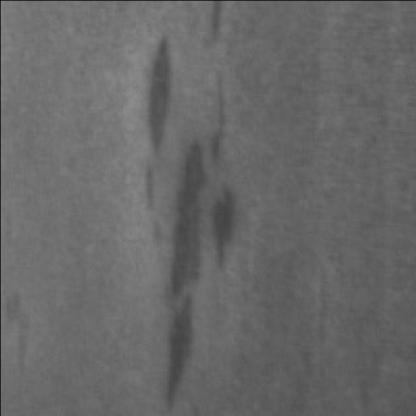inclusion: (156, 71, 235, 407), (133, 29, 179, 212), (200, 177, 241, 272), (2, 287, 46, 368), (204, 0, 226, 46)
